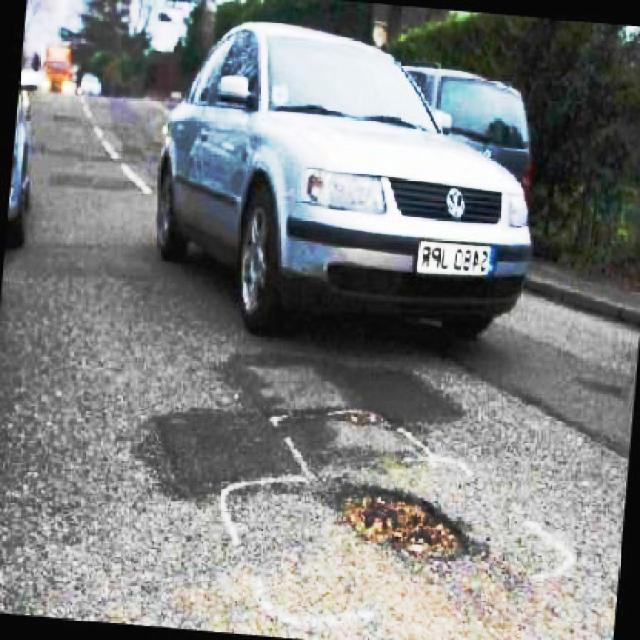pothole: (336, 478, 472, 568)
